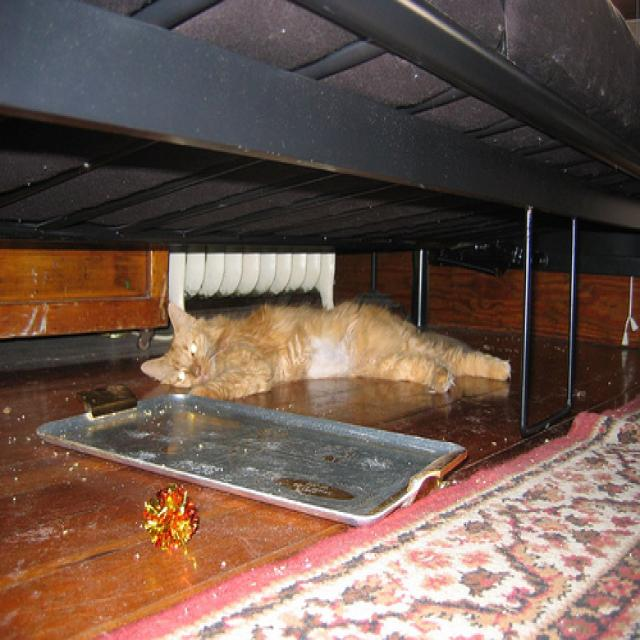cat: (139, 300, 513, 400)
